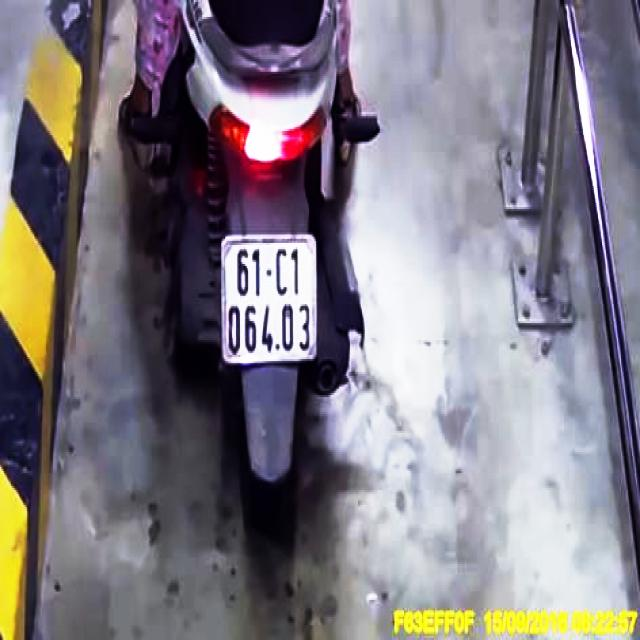license_plate: (224, 237, 319, 364)
